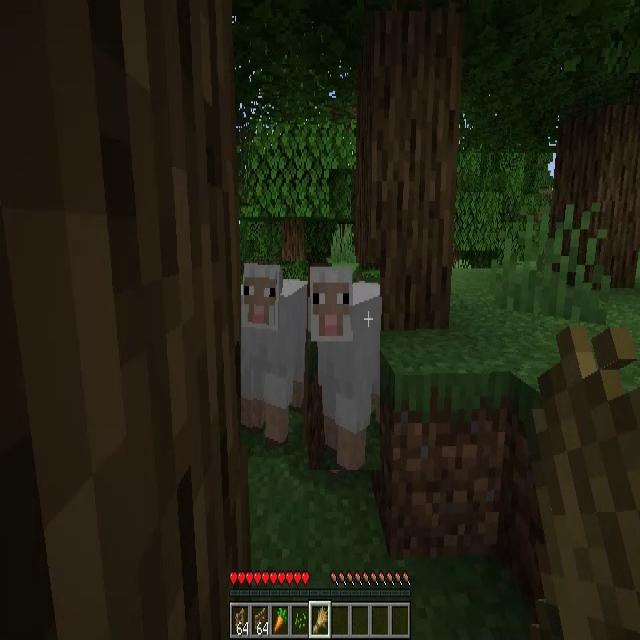sheep: (308, 263, 380, 470), (241, 261, 308, 445)
